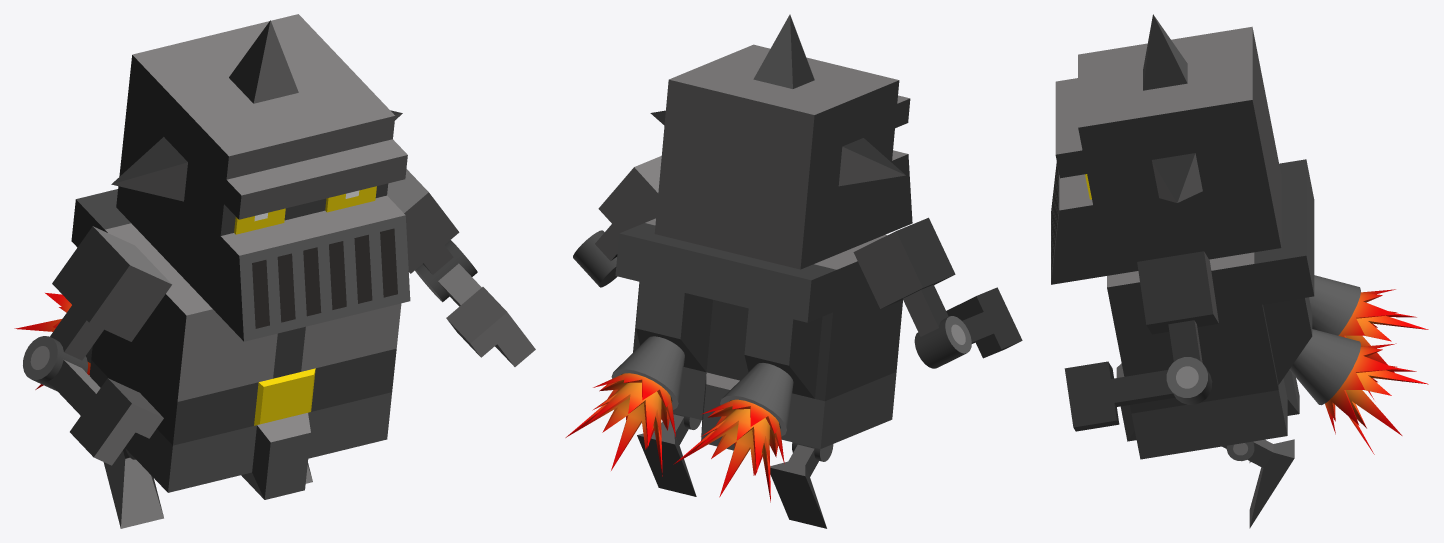
File: Ch_213@Down.FBX
3 views of the same model, side by side, from view 1: azimuth 30°, elevation 25°; view 2: azimuth 150°, elevation 25°; view 3: azimuth 270°, elevation 25° (orthographic). The views are drawn at different scales.
Visible parts, largest first — view 1: Ch_205_Head, Ch_205, Ch_205_Arm_L, Ch_205_Arm_R, Ch_205_Leg_L, Ch_205_Eye_01, Ch_213_Fire_R; view 2: Ch_205_Head, Ch_205, Ch_205_Arm_L, Ch_205_Arm_R, Ch_213_Fire_L, Ch_213_Fire_R, Ch_205_Leg_L, Ch_205_Leg_R; view 3: Ch_205_Head, Ch_205, Ch_205_Arm_R, Ch_213_Fire_L, Ch_205_Leg_R, Ch_213_Fire_R.
Boxes of the visible parts, left/top/right/bottom form: Ch_205_Head: left=111, top=14, right=410, bottom=341; Ch_205: left=71, top=189, right=401, bottom=499; Ch_205_Arm_L: left=23, top=226, right=172, bottom=465; Ch_205_Arm_R: left=387, top=169, right=535, bottom=366; Ch_205_Leg_L: left=103, top=448, right=163, bottom=528; Ch_205_Eye_01: left=234, top=186, right=376, bottom=234; Ch_213_Fire_R: left=14, top=293, right=90, bottom=389; Ch_205_Head: left=650, top=14, right=912, bottom=269; Ch_205: left=611, top=218, right=902, bottom=450; Ch_205_Arm_L: left=853, top=217, right=1022, bottom=368; Ch_205_Arm_R: left=573, top=156, right=661, bottom=287; Ch_213_Fire_L: left=565, top=373, right=675, bottom=476; Ch_213_Fire_R: left=673, top=399, right=784, bottom=502; Ch_205_Leg_L: left=770, top=442, right=833, bottom=528; Ch_205_Leg_R: left=637, top=413, right=701, bottom=496; Ch_205_Head: left=1051, top=14, right=1281, bottom=284; Ch_205: left=1107, top=159, right=1360, bottom=459; Ch_205_Arm_R: left=1064, top=251, right=1218, bottom=431; Ch_213_Fire_L: left=1325, top=343, right=1428, bottom=454; Ch_205_Leg_R: left=1222, top=439, right=1294, bottom=528; Ch_213_Fire_R: left=1338, top=289, right=1428, bottom=399.
Size of the model in its own units: 10.97 by 12.35 by 8.97.
